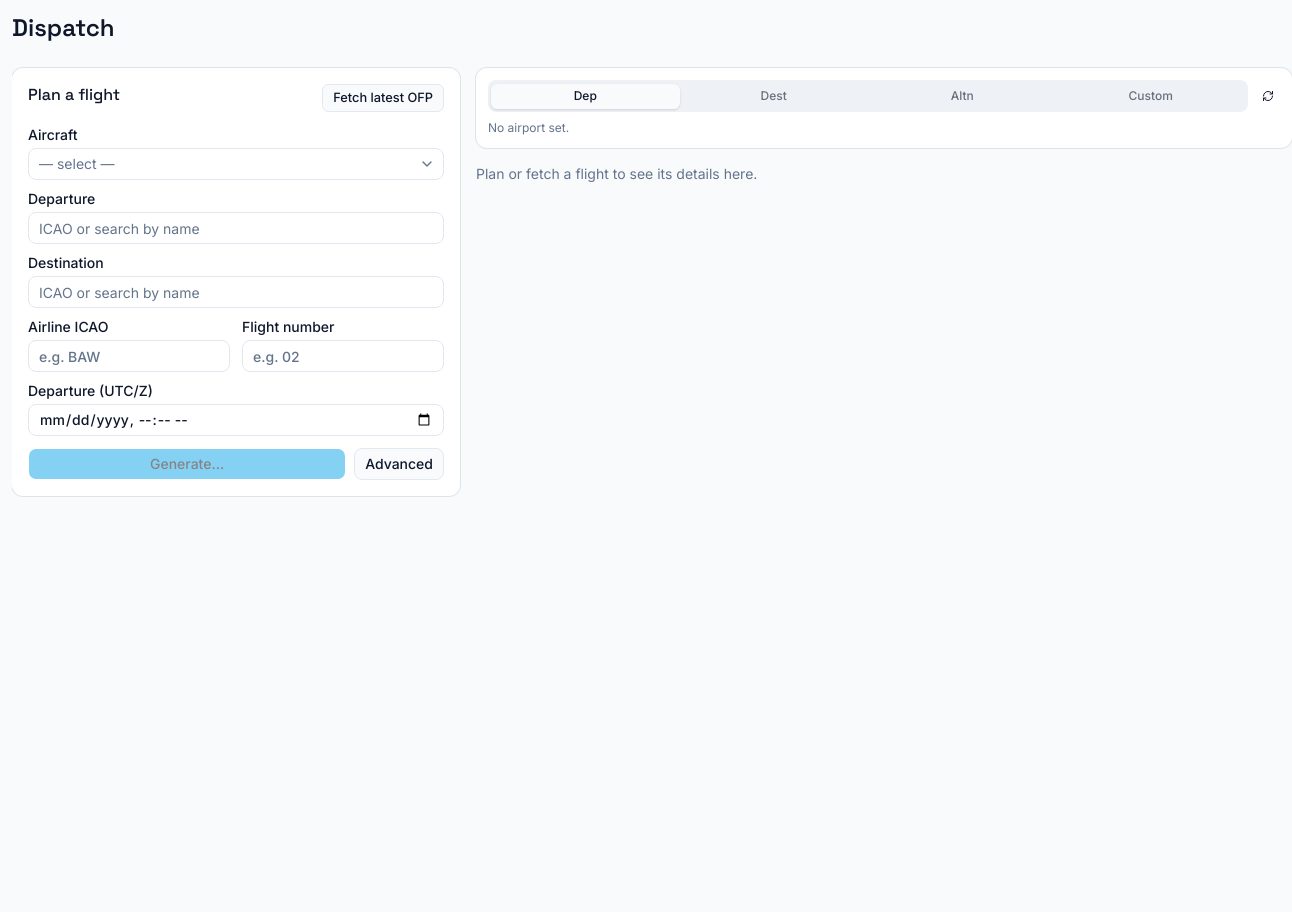
Test: DispatchView › OFP details panel › renders full plan details, and "None" when there are no step climbs
Click the button "Fetch latest OFP": (383, 98) [322,84,444,112]
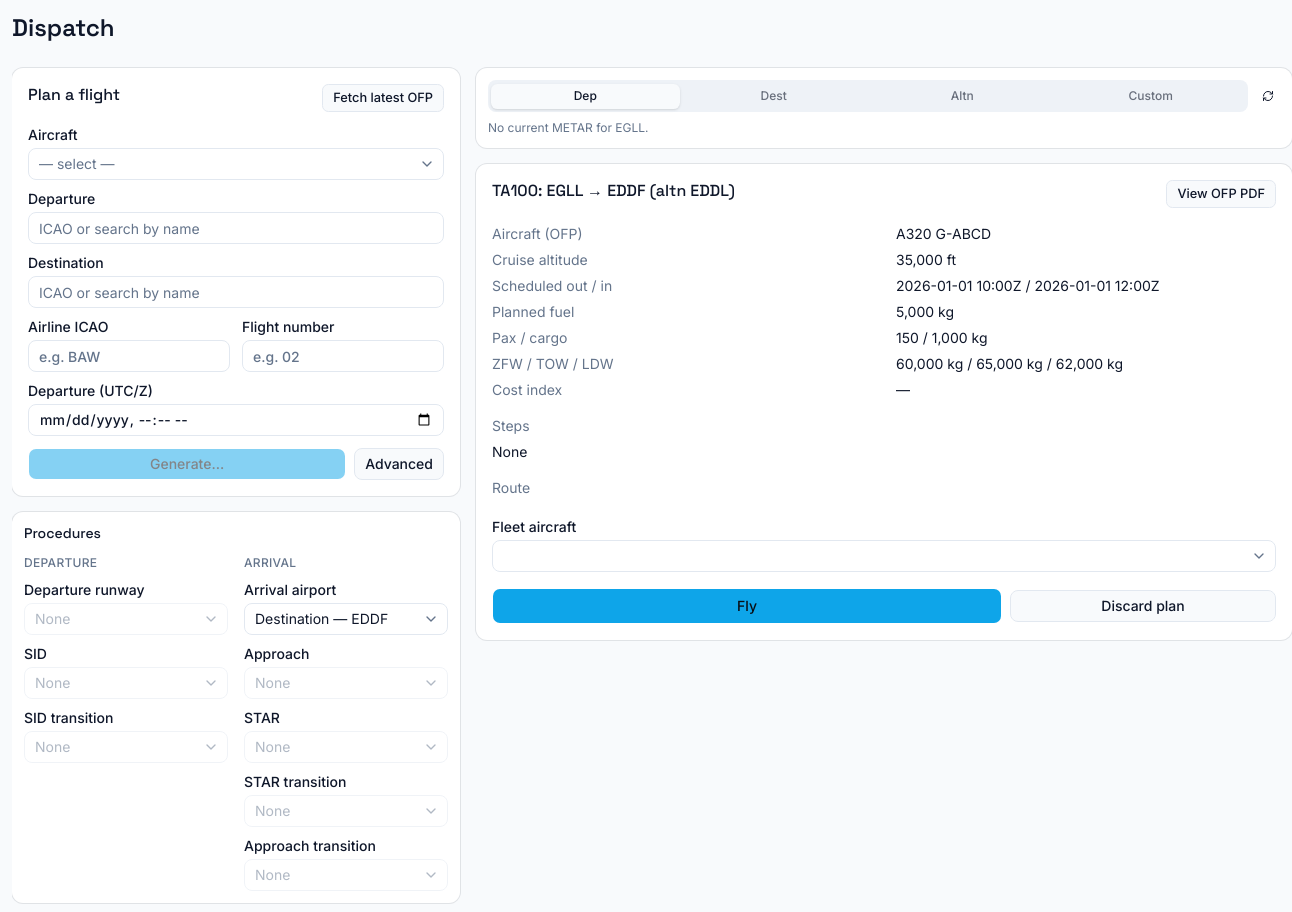
expect the text "TA100: EGLL → EDDF (altn EDDL)" is shown: met, box [492,180,735,201]
expect the text "None" below "Steps" is shown: met, box [492,443,527,460]
expect the text "—" is shown: met, box [896,381,910,398]
